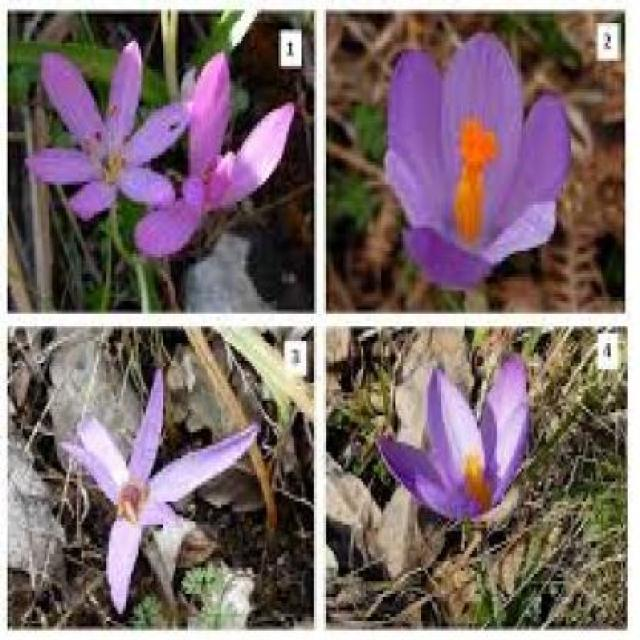saffron open: (386, 36, 569, 288), (78, 368, 256, 613), (135, 52, 294, 256), (26, 42, 188, 220), (379, 359, 529, 522)
